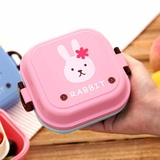PlasticBox: (15, 27, 134, 136)
